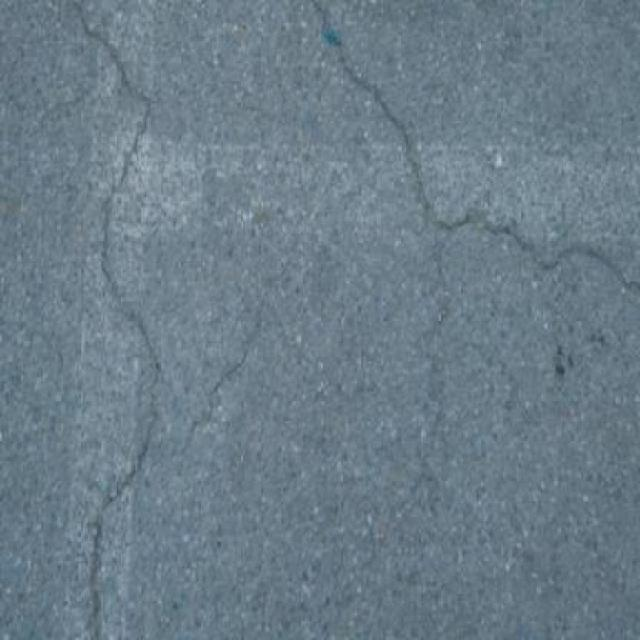GRIETA: (338, 53, 639, 297), (73, 0, 161, 639), (183, 321, 259, 451), (428, 240, 452, 434)
